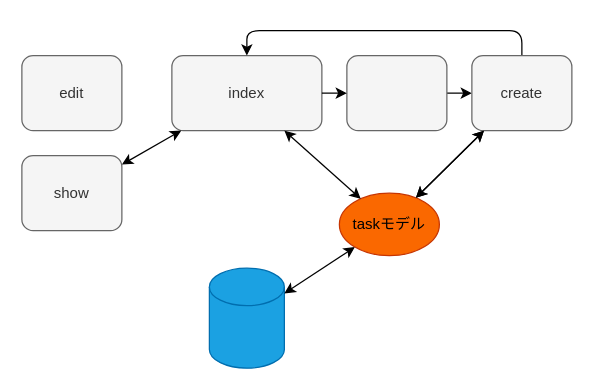
Image size: 594x390. Some labels were removed from this diagram. Each missing label, with the box of its shape:
DB: (208, 267, 284, 368)
new: (346, 54, 447, 131)
